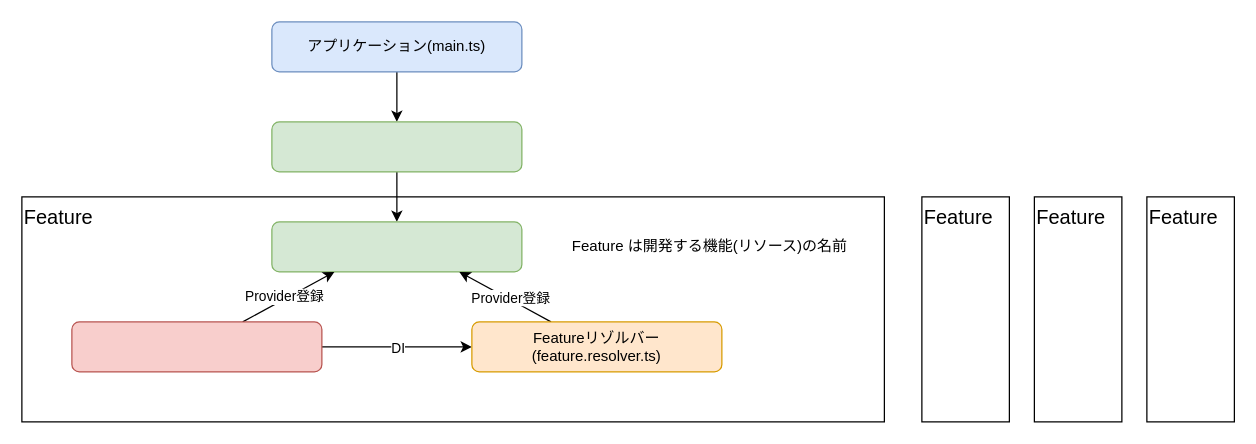
This 1256x444 diagram has some shape labels left out. The shapes that lost their labels are listed below. From the top down, each one's centre as x and y in pixels, then its label:
the point at 396,146: ルートモジュール(app.module.ts)
the point at 396,246: Featureモジュール(feature.module.ts)
the point at 196,346: Featureサービス(feature.service.ts)
